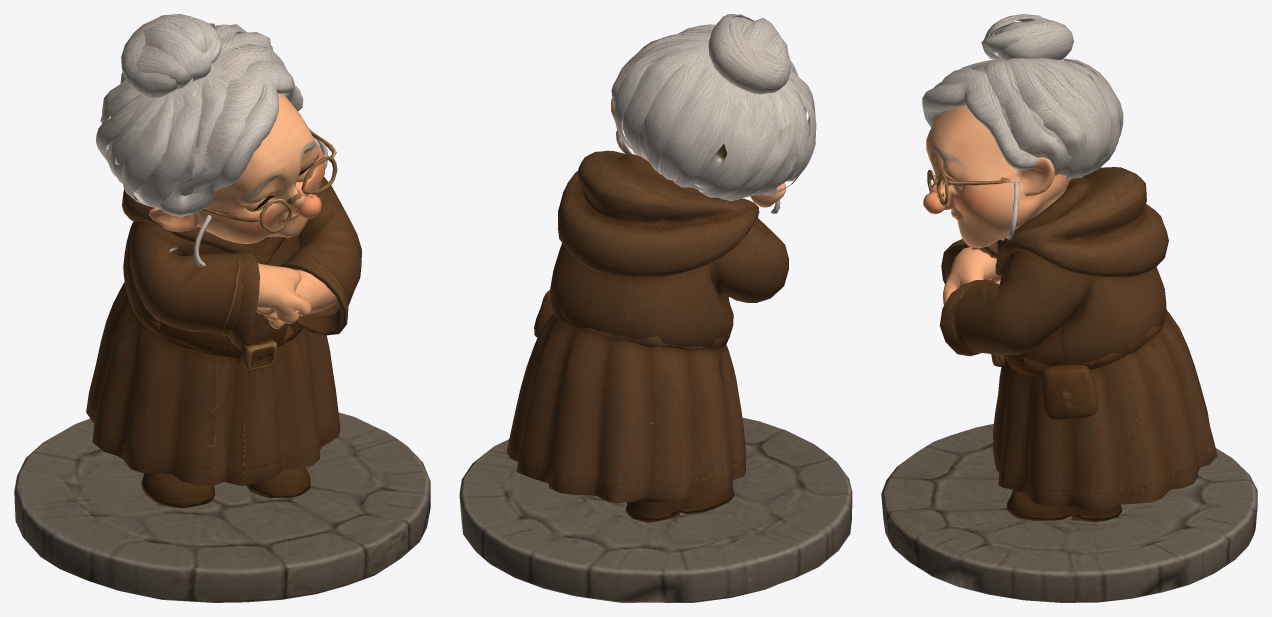
Rendered from lady_merchant_v1.glb.
3 renders of one model, left to right at view 1: azimuth 30°, elevation 25°; view 2: azimuth 150°, elevation 25°; view 3: azimuth 270°, elevation 25°, orthographic. The views are drawn at different scales.
Size of the model in its own units: 0.7168 by 1 by 0.7168.
Materials: 1 (1 with a texture image).
